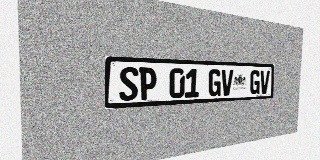0: (169, 68, 185, 99)
1: (185, 68, 199, 98)
G: (208, 69, 221, 97), (250, 70, 260, 94)
P: (139, 67, 157, 100)
S: (119, 67, 138, 101)
V: (221, 69, 233, 96), (260, 70, 270, 94)
